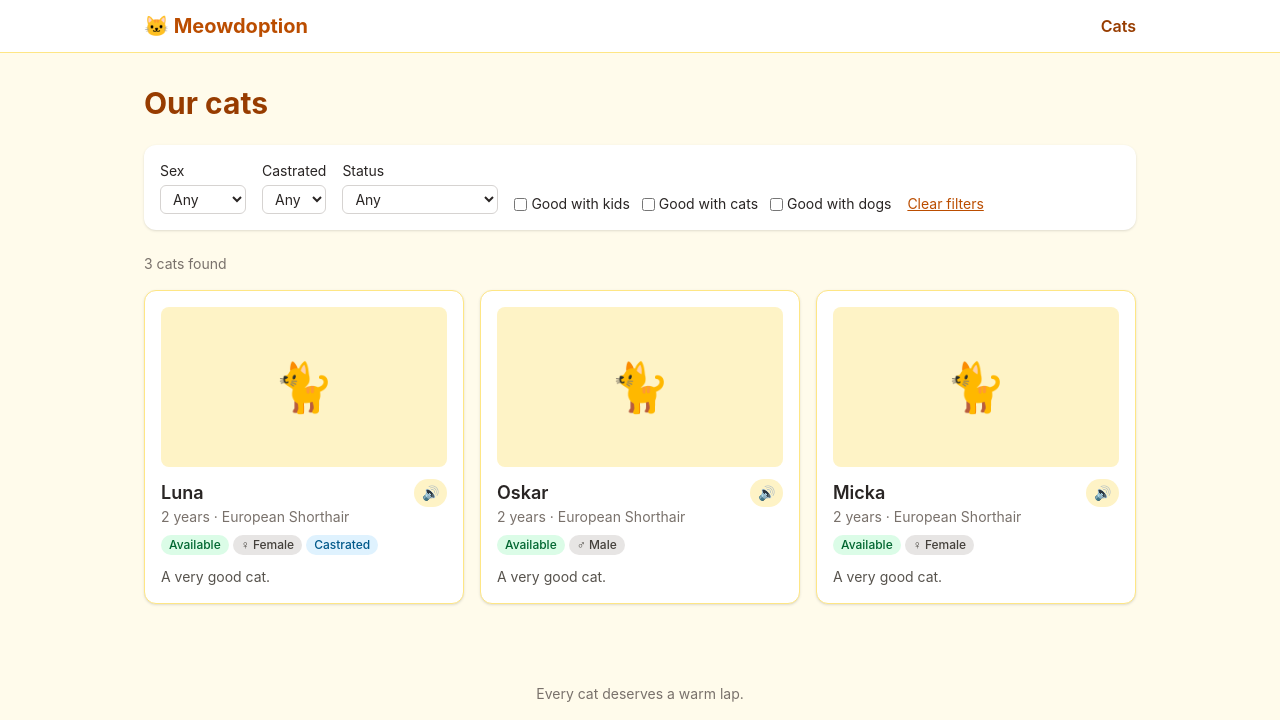
Test case: CatListPage › filters via the URL and the API
The width and height of the screenshot is (1280, 720).
Expected: the element "Oskar" is shown, [480, 290, 800, 604]
Select "Female" in the dropdown labelled "Sex" at (203, 200), box [160, 185, 246, 214]
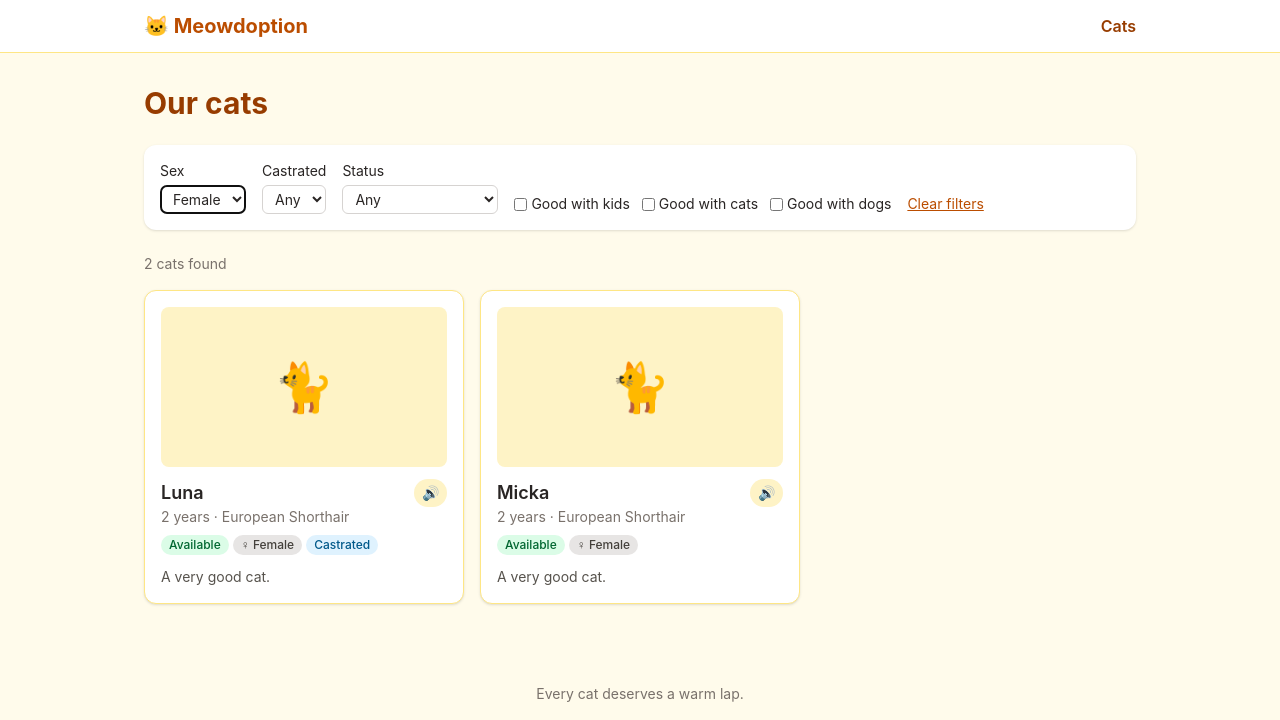
Select "Yes" in the dropdown labelled "Castrated" at (294, 200), box [262, 185, 326, 214]
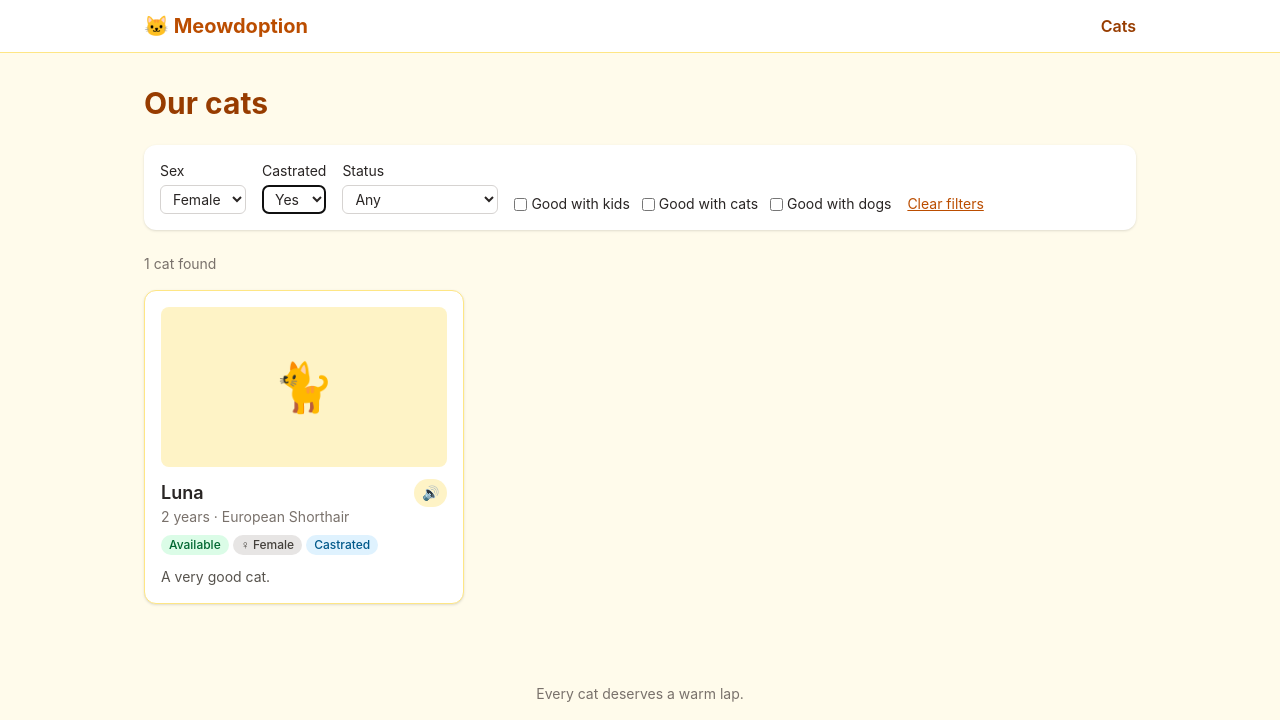
Expected: the element "Luna" is shown, [144, 290, 464, 604]
Result: the link "Micka" is gone
